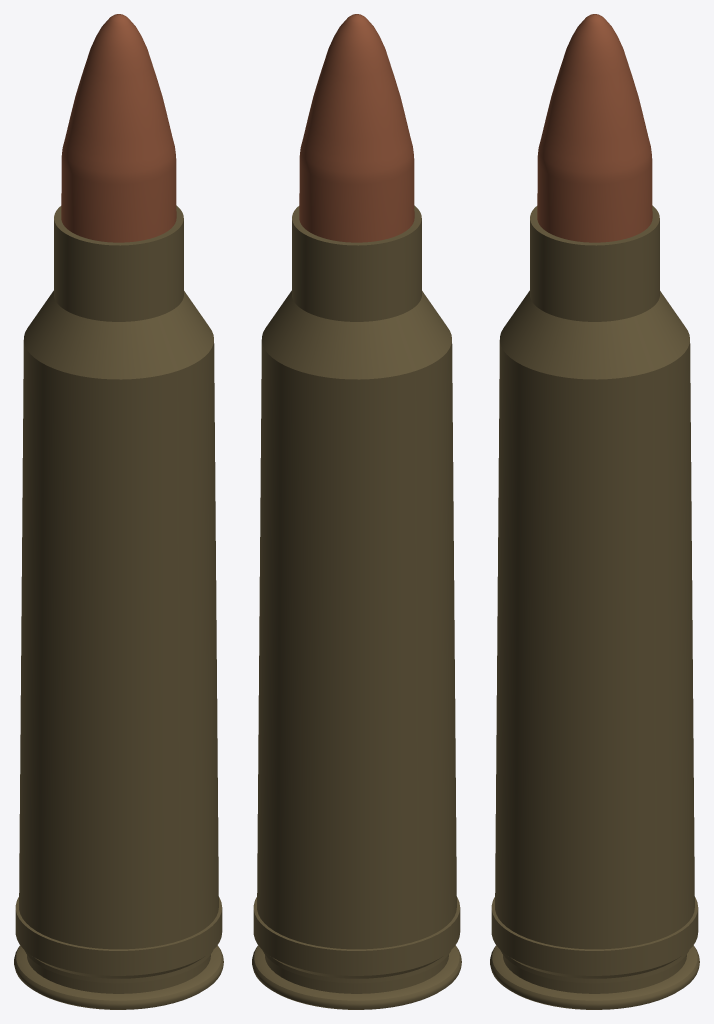
3 renders of one model, left to right at view 1: azimuth 30°, elevation 25°; view 2: azimuth 150°, elevation 25°; view 3: azimuth 270°, elevation 25°, orthographic.
Visible parts, largest first — view 1: Boole; view 2: Boole; view 3: Boole.
Boxes of the visible parts, x1,y1,x2,y2 form: Boole: (14,14,223,1009); Boole: (252,14,461,1009); Boole: (490,14,699,1009).
Size of the model in its own units: 86.02 by 430 by 85.99.
